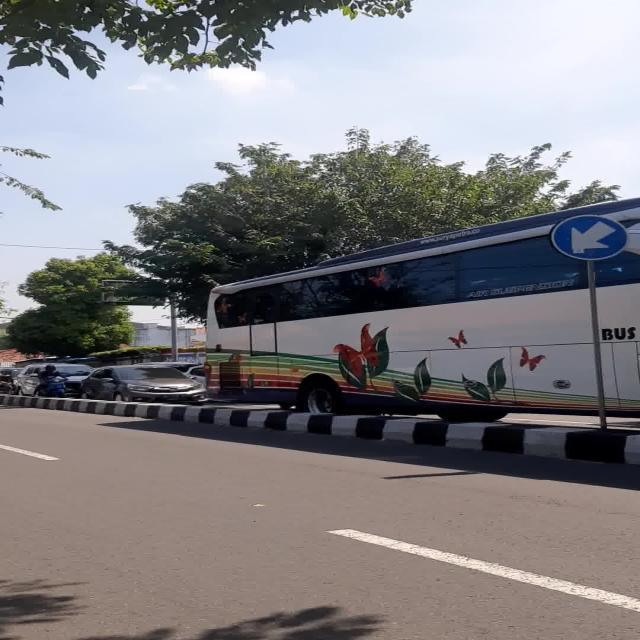Lajur Kiri: (551, 214, 629, 260)
